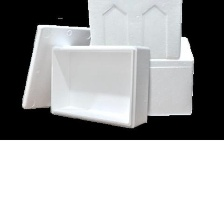foam_box: (46, 41, 154, 131), (18, 19, 91, 114), (83, 0, 187, 63), (143, 33, 198, 120)
